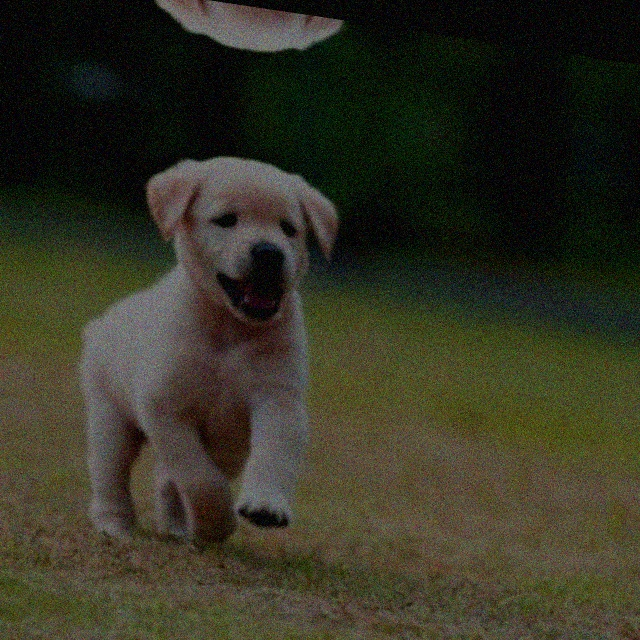dog: (54, 113, 351, 589), (69, 0, 356, 83)
